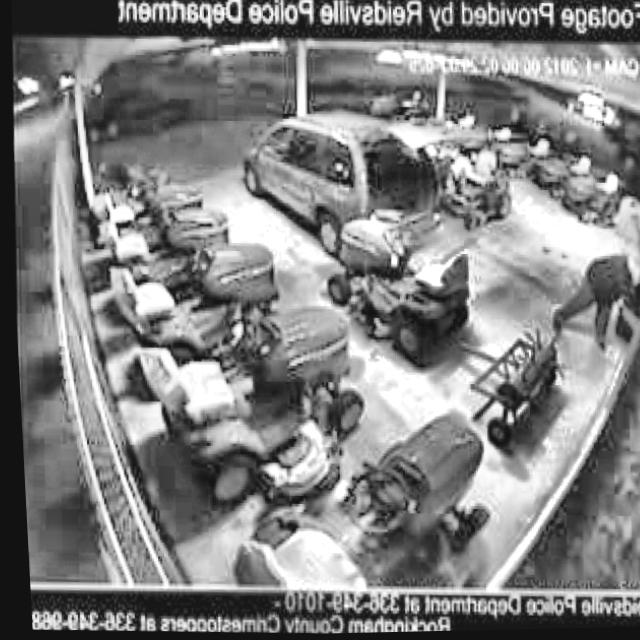burglary: (229, 102, 491, 269), (538, 242, 640, 359)
